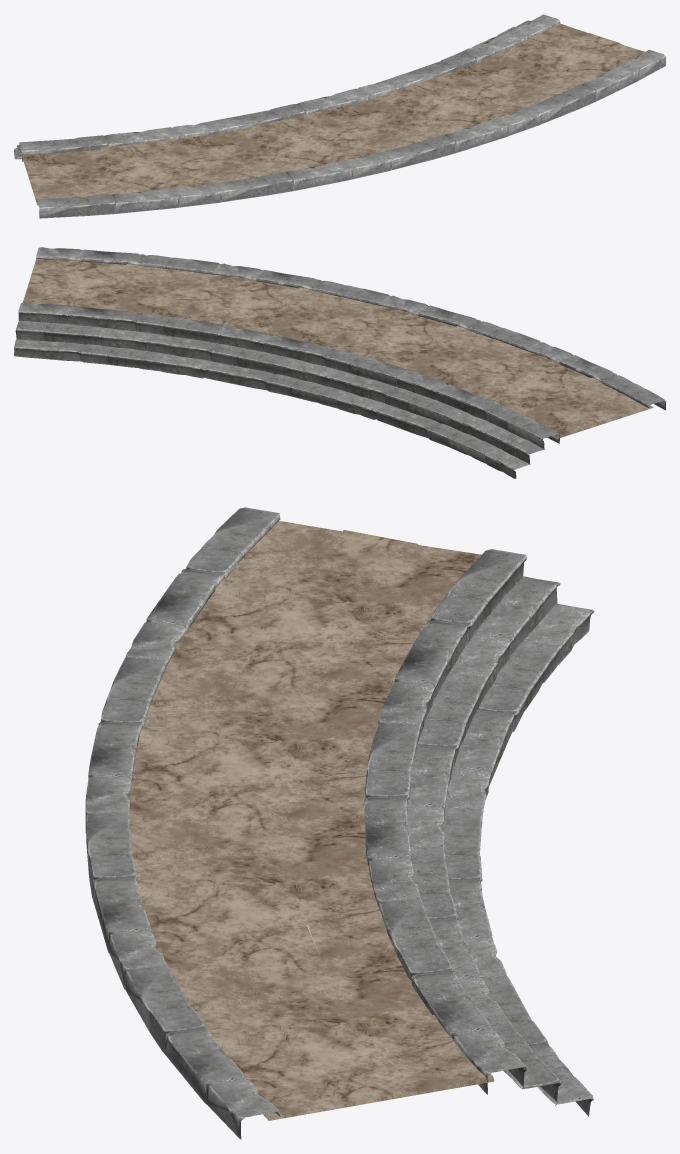
3 views of the same model, one above another, from view 1: azimuth 30°, elevation 25°; view 2: azimuth 150°, elevation 25°; view 3: azimuth 270°, elevation 25° (orthographic). The views are drawn at different scales.
Parts seen in each view (by area): view 1: SM_Steps01_LOD0; view 2: SM_Steps01_LOD0; view 3: SM_Steps01_LOD0.
Boxes of the visible parts, x1,y1,x2,y2 form: SM_Steps01_LOD0: (14, 14, 665, 218); SM_Steps01_LOD0: (14, 247, 665, 478); SM_Steps01_LOD0: (85, 507, 594, 1139).
Bounding box in the file's own units: 18.17 × 0.8971 × 6.39.
Materials: 2 (2 with a texture image).
